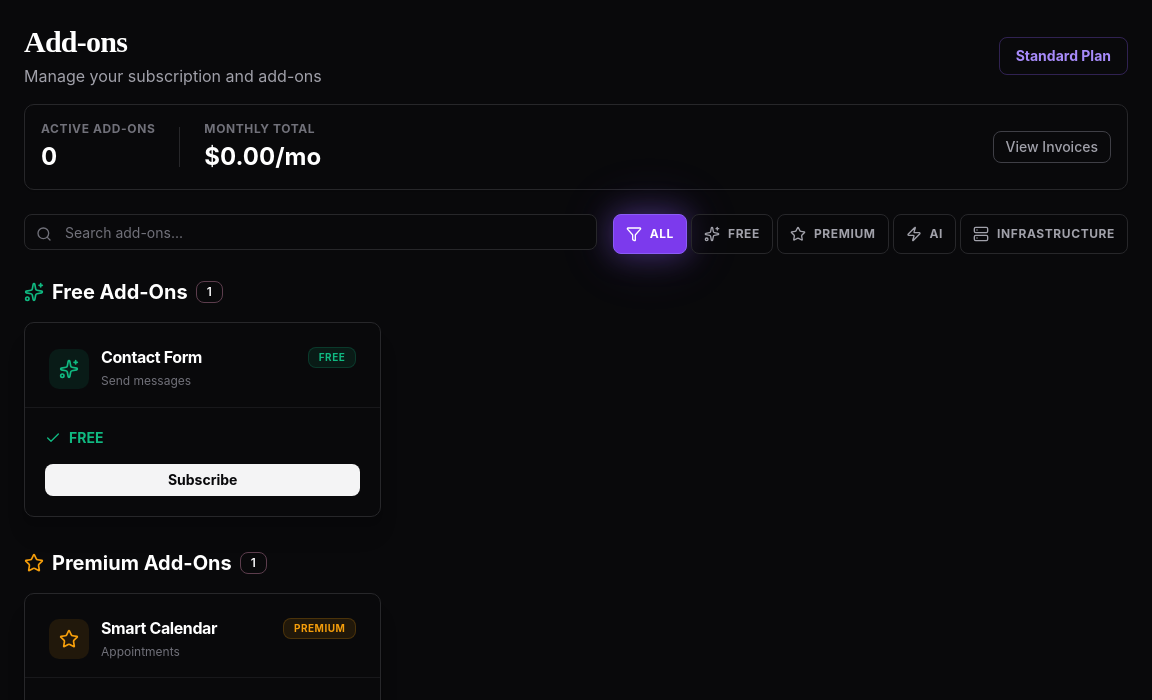
Test case: AddonsPage › filters add-ons by search query
Type "calendar" into the field with placeholder "Search add-ons...". click: (310, 232)
box: [24, 214, 597, 250]
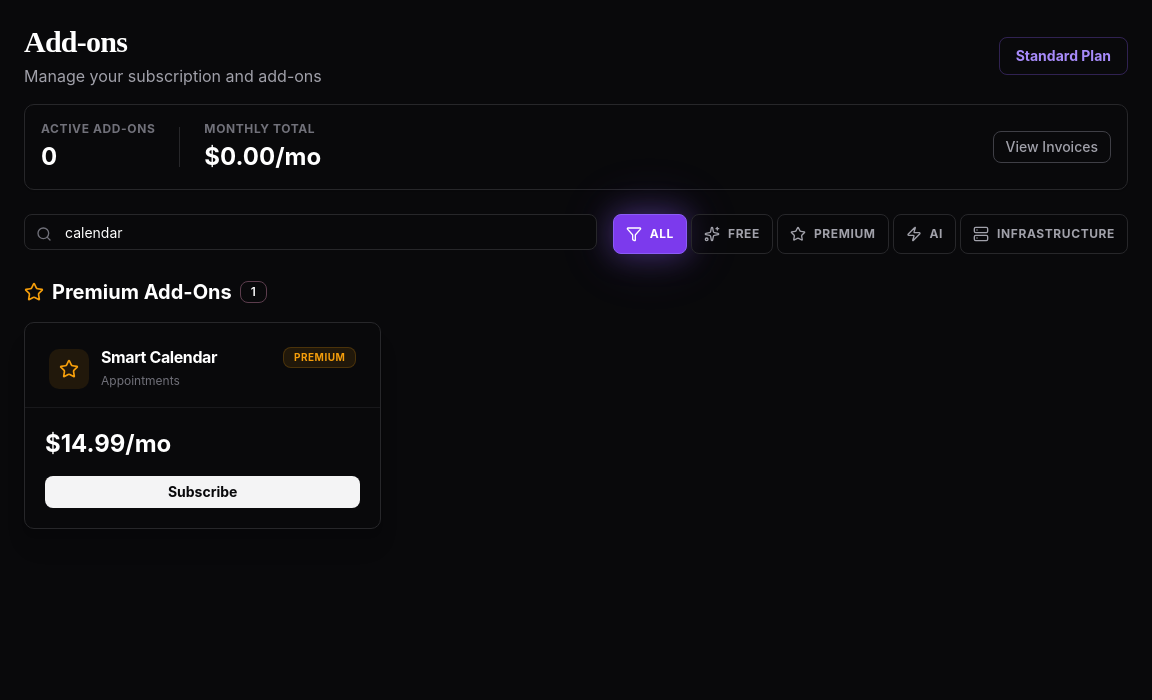
Expected: the heading "Smart Calendar" is shown, [101, 347, 217, 367]
Now the heading "Contact Form" is gone
